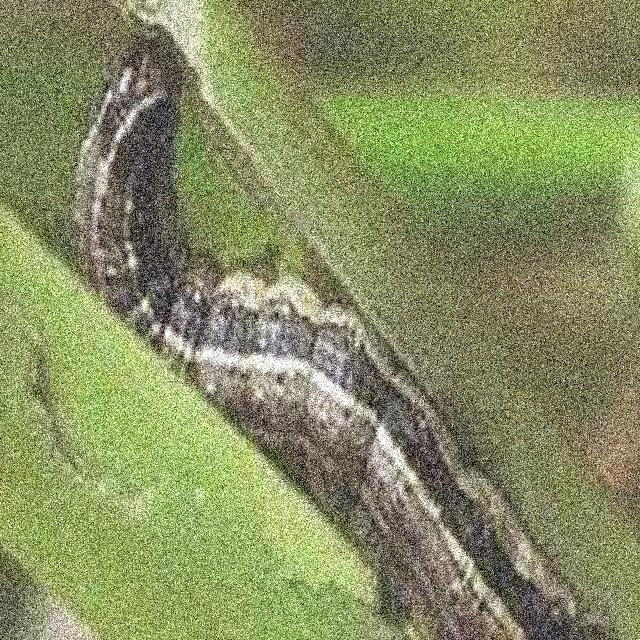gusano_cogollero: (72, 34, 624, 640)
